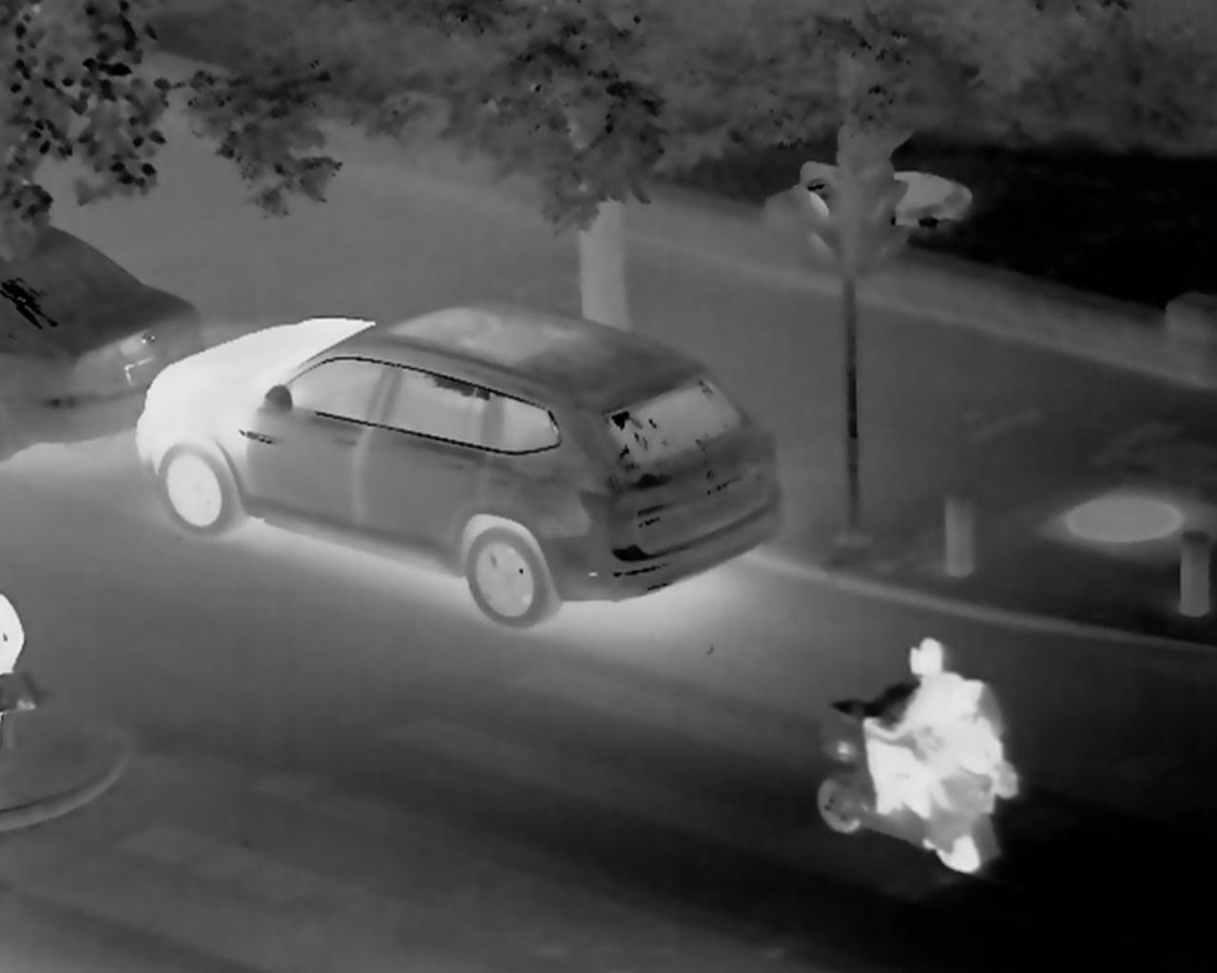person: (868, 640, 1005, 833)
